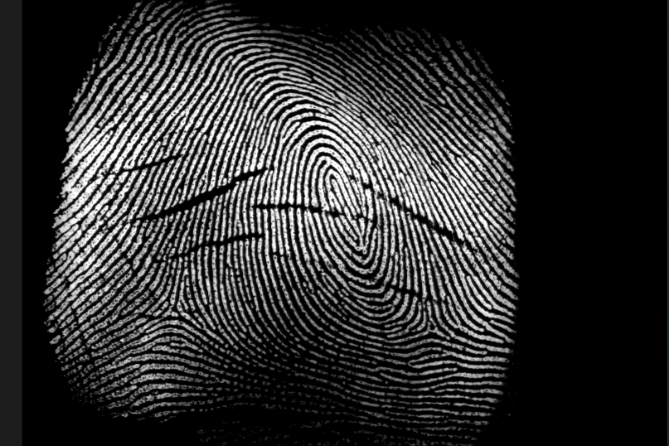deltas: (395, 287, 461, 348), (148, 272, 208, 331)
nucleo: (296, 140, 375, 240)
